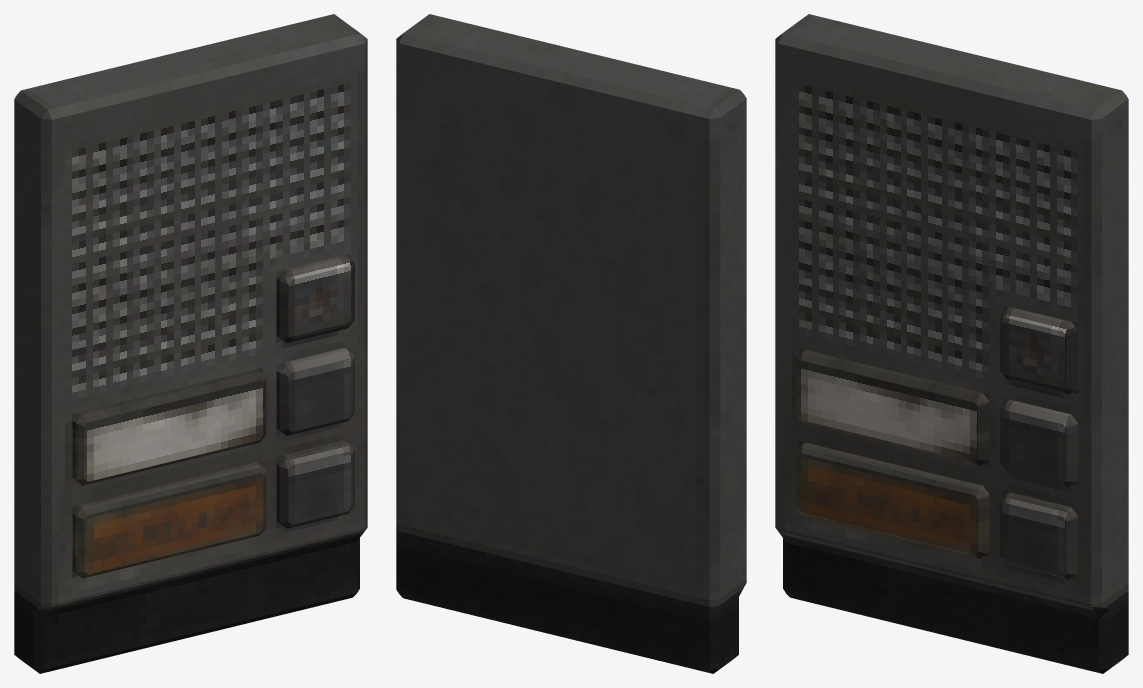
Rendered from button_11.glb.
3 views of the same model, side by side, from view 1: azimuth 30°, elevation 25°; view 2: azimuth 150°, elevation 25°; view 3: azimuth 330°, elevation 25° (orthographic).
Visible parts, largest first — view 1: button_11; view 2: button_11; view 3: button_11.
Boxes of the visible parts, <box> form: button_11: <box>14,14,367,673</box>; button_11: <box>396,14,746,673</box>; button_11: <box>775,14,1128,673</box>.
Bounding box in the file's own units: 0.12 × 0.2 × 0.026.
1 material, 1 textured.
